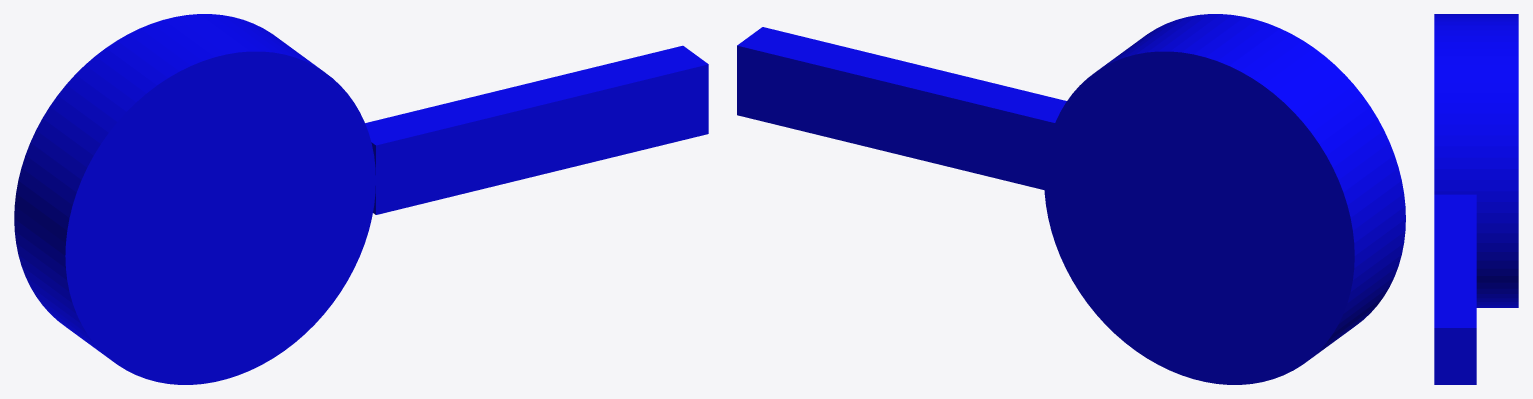
File: leftsupport.dae
The picture shows the model from 3 angles, left to right: view 1: azimuth 30°, elevation 25°; view 2: azimuth 150°, elevation 25°; view 3: azimuth 270°, elevation 25°; orthographic projection. The views are drawn at different scales.
Visible parts, largest first — view 1: node; view 2: node; view 3: node.
Part boxes in pixels (<box>): node: <box>14,14,708,384</box>; node: <box>737,14,1405,384</box>; node: <box>1434,14,1518,384</box>.
Size of the model in its own units: 0.058 by 0.028 by 0.008.
Materials: 1 (1 with a texture image).
